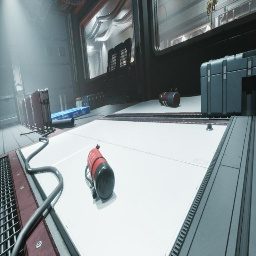FireExtinguisher ]: (85, 144, 115, 200)
NitrogenTank ,: (159, 92, 180, 108)
